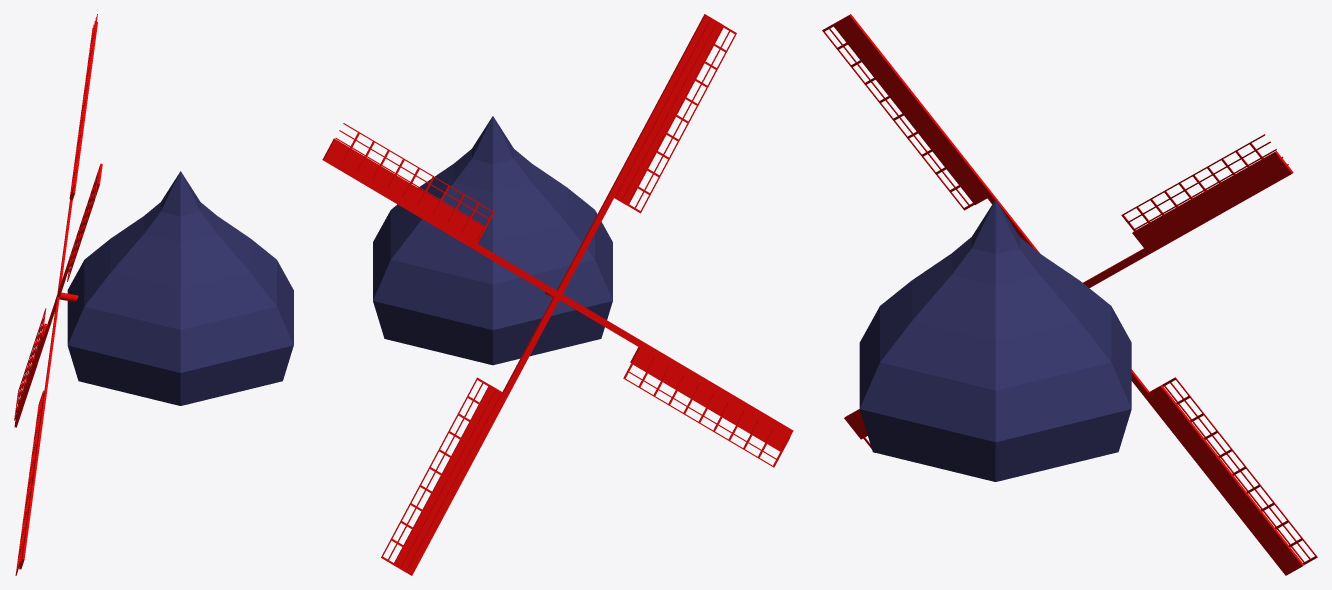
The model's file is windmilltower_top.fbx.
The picture shows the model from 3 angles, left to right: view 1: azimuth 30°, elevation 25°; view 2: azimuth 150°, elevation 25°; view 3: azimuth 270°, elevation 25°; orthographic projection. The views are drawn at different scales.
Visible parts, largest first — view 1: polySurface30; view 2: polySurface30; view 3: polySurface30.
Part boxes in pixels (bbox=[...]): polySurface30: bbox=[14, 14, 293, 575]; polySurface30: bbox=[322, 14, 793, 575]; polySurface30: bbox=[822, 14, 1317, 575].
Bounding box in the file's own units: 5.93 × 7.12 × 6.34.
